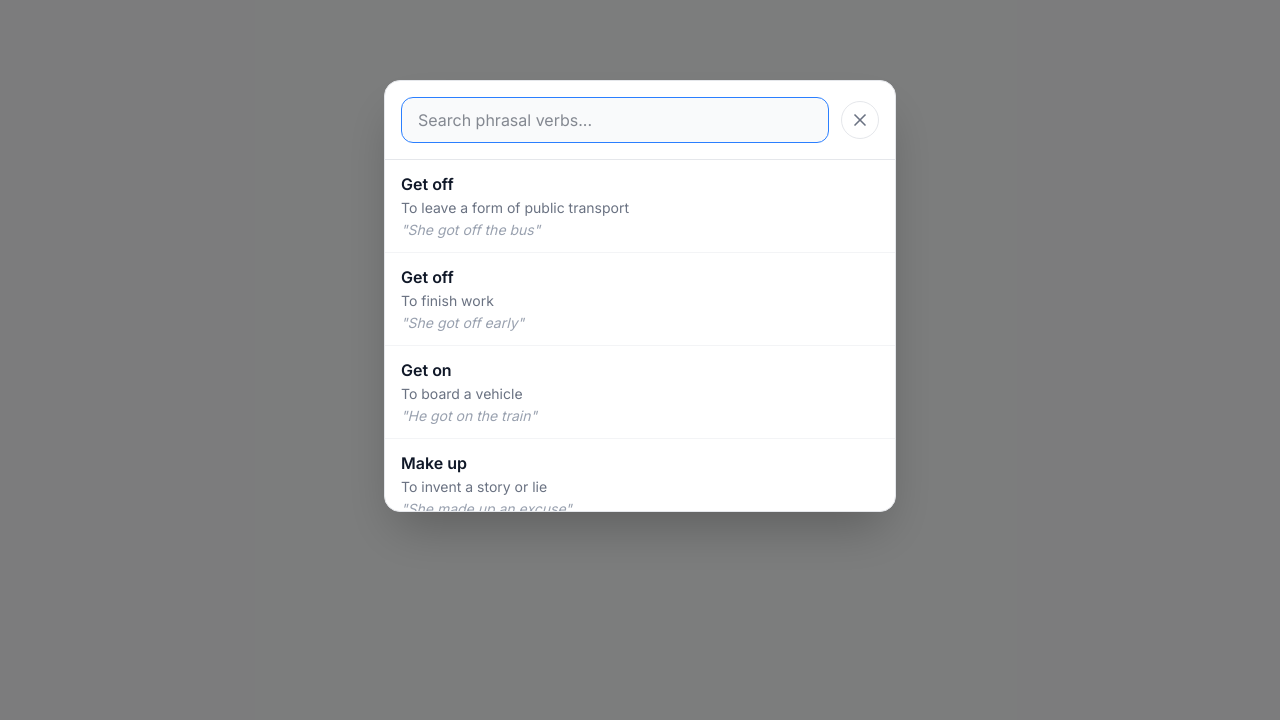
ListSearchModal › filters results by definition
Step 1. Type "postpone" into the field with placeholder "Search phrasal verbs..." → (615, 120), box top-left (401, 97), bottom-right (829, 143)
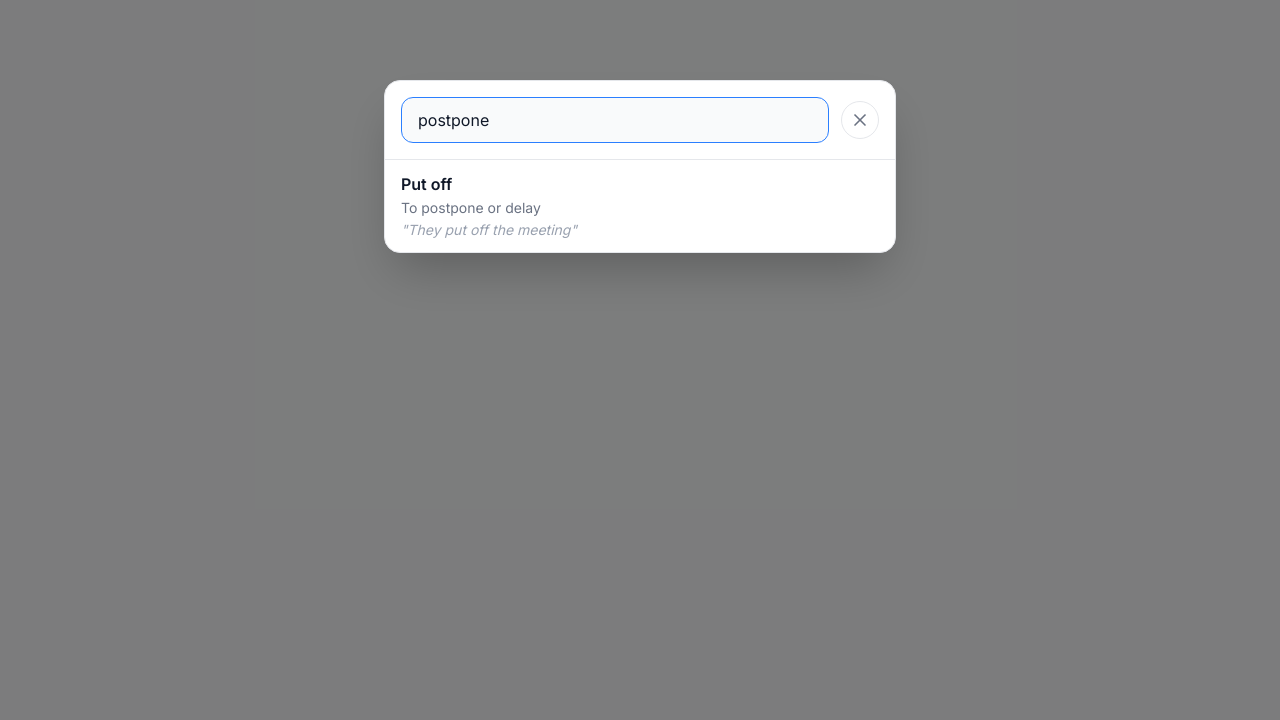
Check: the text "Put off" is shown, box top-left (401, 174), bottom-right (452, 194)
Check: the number of list items is 1, box top-left (401, 174), bottom-right (577, 238)
